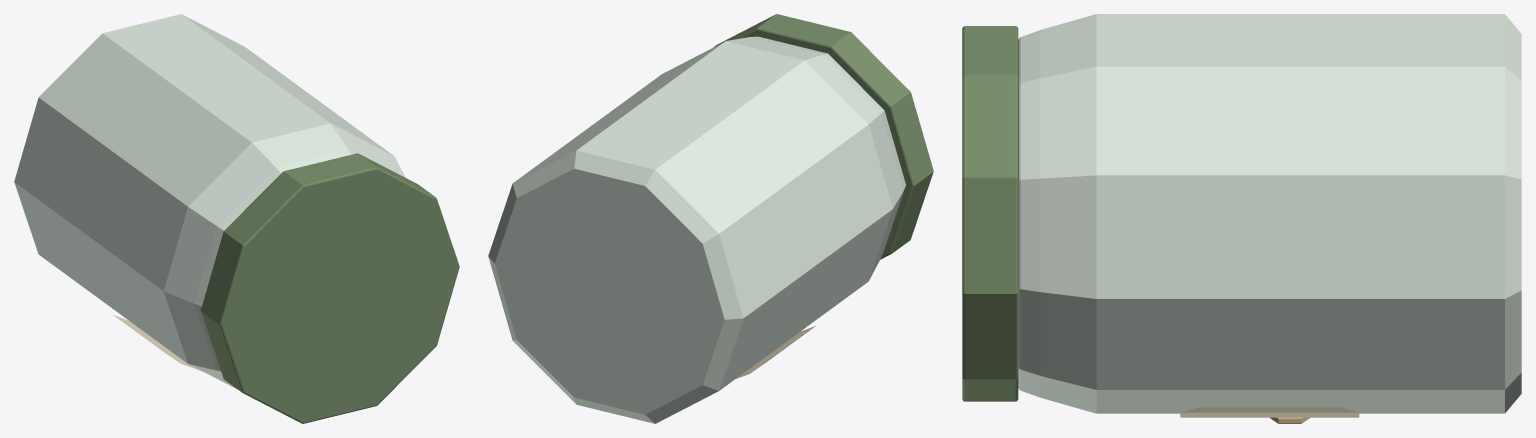
File: tahini.glb
3 renders of one model, left to right at view 1: azimuth 30°, elevation 25°; view 2: azimuth 150°, elevation 25°; view 3: azimuth 270°, elevation 25°, orthographic. The views are drawn at different scales.
Visible parts, largest first — view 1: tahini; view 2: tahini; view 3: tahini.
Part boxes in pixels (bbox=[...]): tahini: bbox=[14, 14, 459, 423]; tahini: bbox=[488, 14, 933, 423]; tahini: bbox=[962, 14, 1521, 423].
Bounding box in the file's own units: 0.072 × 0.0724 × 0.1.
